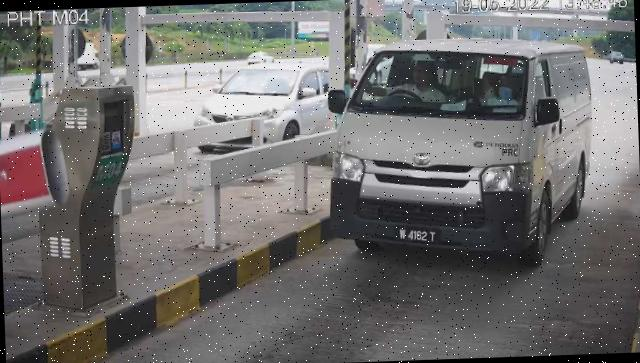License_Plate: (394, 222, 445, 251)
van: (324, 35, 598, 272)
